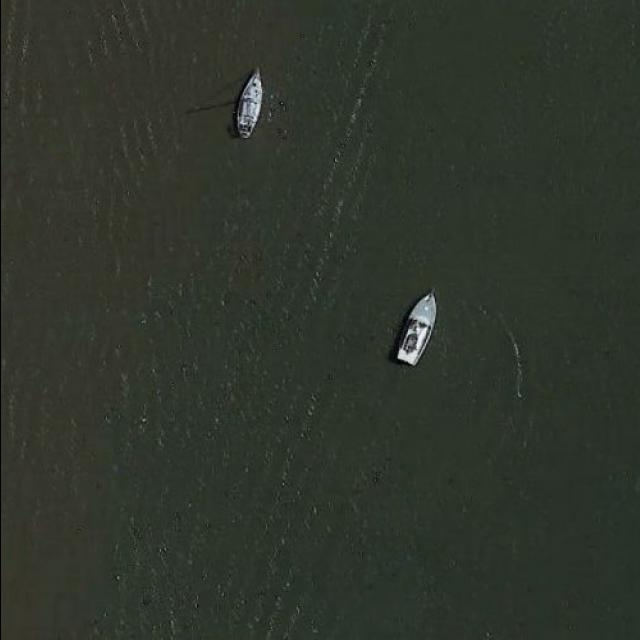ship: (393, 290, 439, 366), (234, 68, 264, 140)
